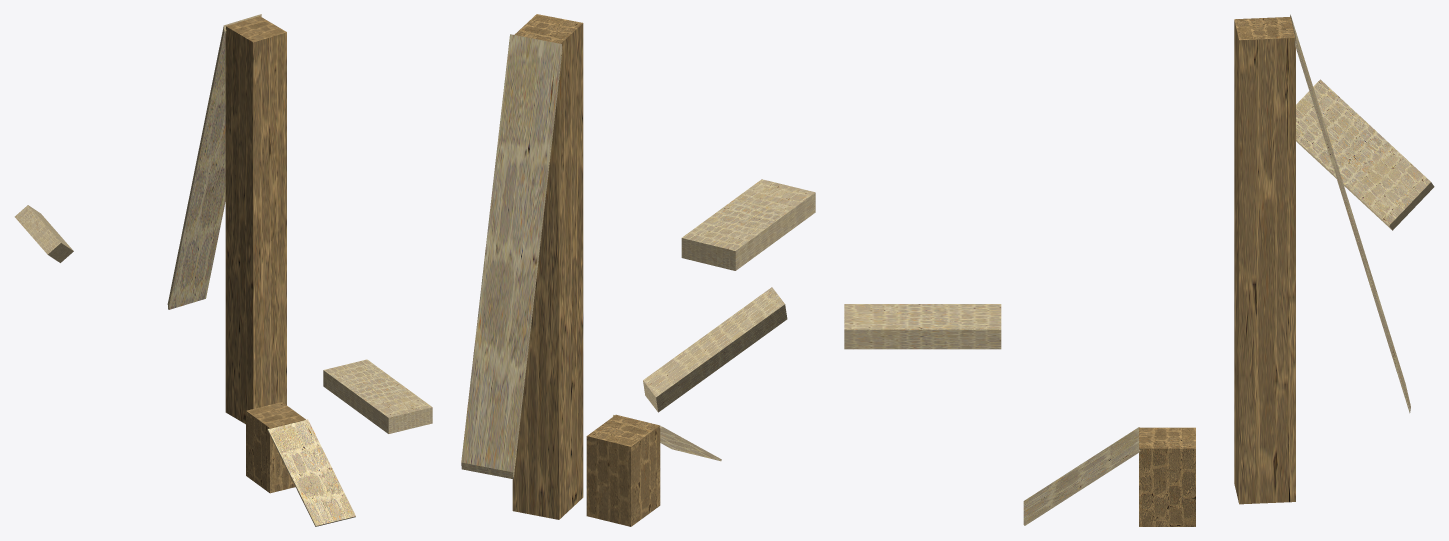
The model's file is basiclevel2.obj.
The picture shows the model from 3 angles, left to right: view 1: azimuth 30°, elevation 25°; view 2: azimuth 150°, elevation 25°; view 3: azimuth 270°, elevation 25°; orthographic projection. The views are drawn at different scales.
Visible parts, largest first — view 1: Cube.007, Cube.006, Cube.004, Cube.003, Cube.002, Cube.005; view 2: Cube.006, Cube.007, Cube.002, Cube.004, Cube.005, Cube.003; view 3: Cube.007, Cube.005, Cube.004, Cube.002, Cube.003, Cube.006.
Boxes of the visible parts, x1,y1,x2,y2 form: Cube.007: (225, 16, 286, 424); Cube.006: (167, 14, 261, 309); Cube.004: (323, 359, 432, 433); Cube.003: (267, 419, 355, 526); Cube.002: (246, 402, 305, 493); Cube.005: (14, 205, 73, 262); Cube.006: (461, 34, 562, 479); Cube.007: (512, 14, 583, 519); Cube.002: (586, 414, 660, 526); Cube.004: (681, 179, 815, 270); Cube.005: (643, 287, 787, 412); Cube.003: (613, 415, 721, 461); Cube.007: (1234, 17, 1295, 504); Cube.005: (1296, 79, 1434, 230); Cube.004: (844, 304, 1001, 349); Cube.002: (1139, 427, 1195, 526); Cube.003: (1023, 427, 1140, 525); Cube.006: (1290, 14, 1410, 413).
Size of what is drawn, in the model's own units: 116 by 196 by 208.
Materials: 6 (6 with a texture image).
